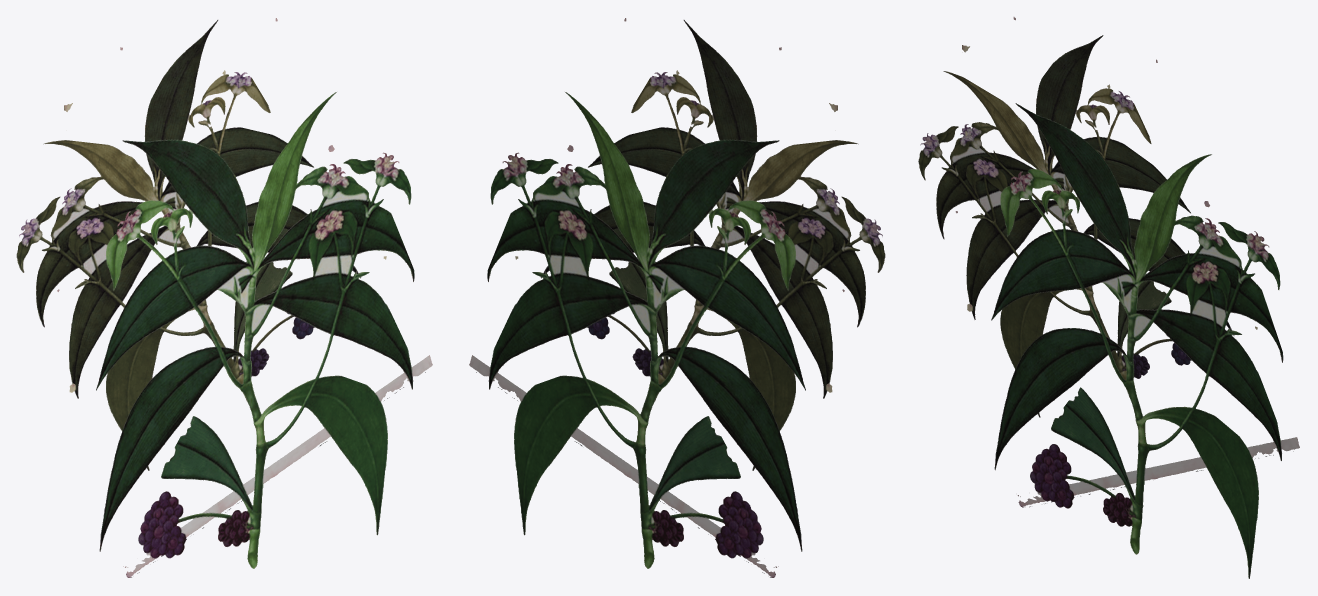
File: planta.fbx
3 views of the same model, side by side, from view 1: azimuth 30°, elevation 25°; view 2: azimuth 150°, elevation 25°; view 3: azimuth 330°, elevation 25° (orthographic). The views are drawn at different scales.
Visible parts, largest first — view 1: planta1; view 2: planta1; view 3: planta1.
Part boxes in pixels (left/top/right/bottom): planta1: left=16, top=18, right=432, bottom=577; planta1: left=469, top=18, right=885, bottom=577; planta1: left=918, top=17, right=1299, bottom=578.
Size of the model in its own units: 10.13 by 12.93 by 0.
Materials: 1 (1 with a texture image).
